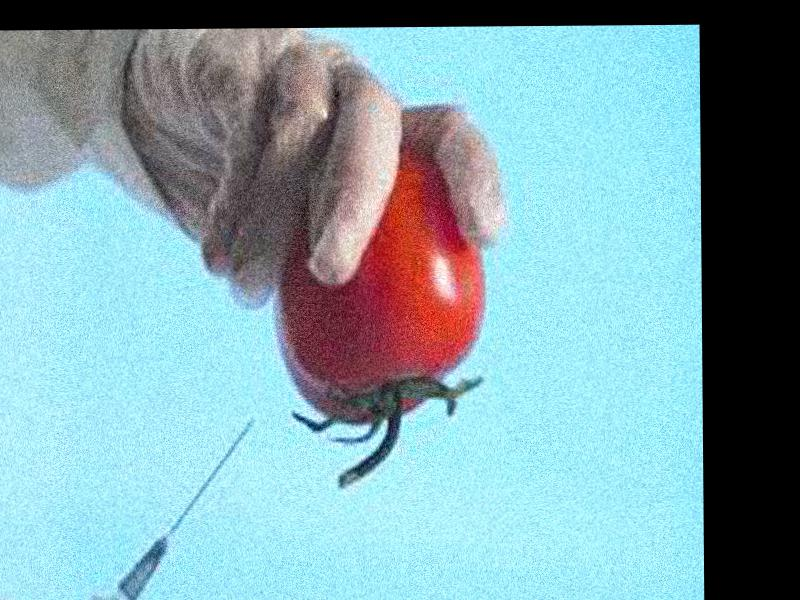Tomato: (277, 147, 487, 424)
